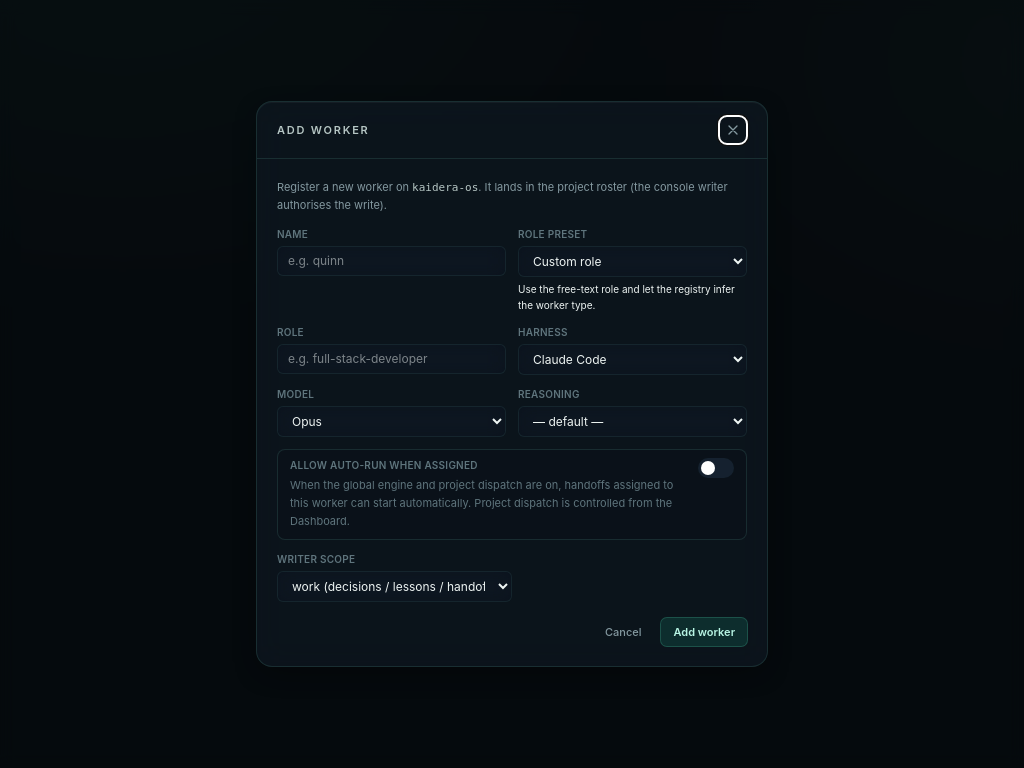
it: AddAgentModal › surfaces a friendly degraded-write error (caller not a registered writer)
This screenshot has width=1024, height=768.
In the field labelled "Name": (392,261) [277, 246, 506, 276], type "q"
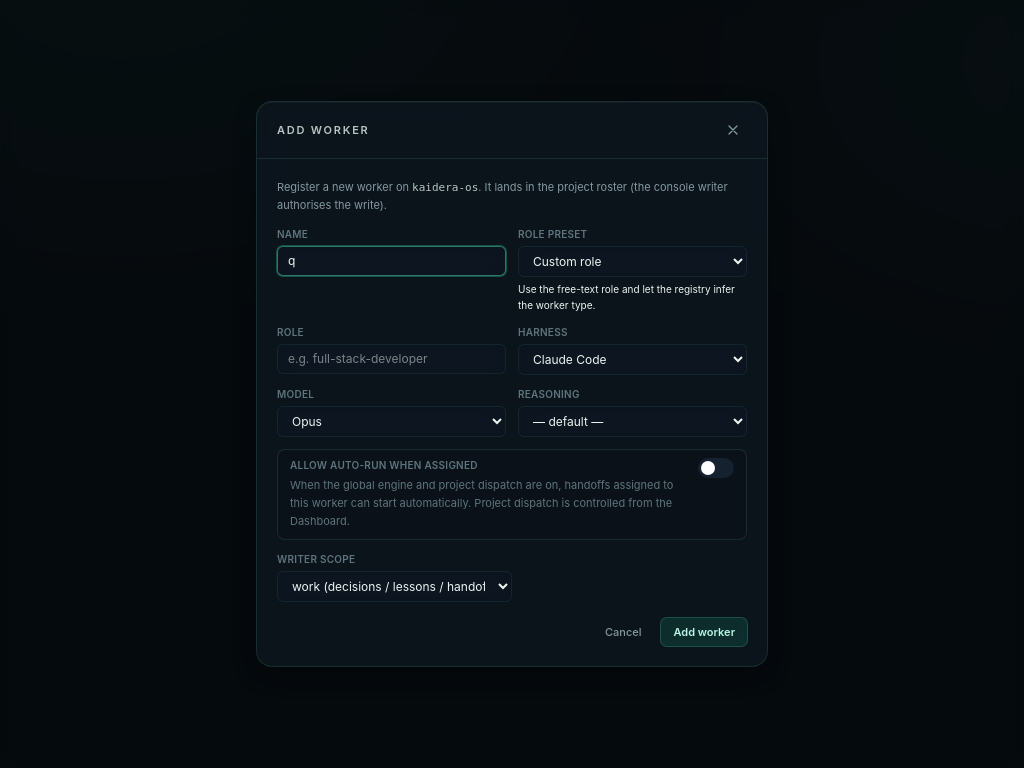
In the field labelled "Role": (392,359) [277, 344, 506, 374], type "qa"
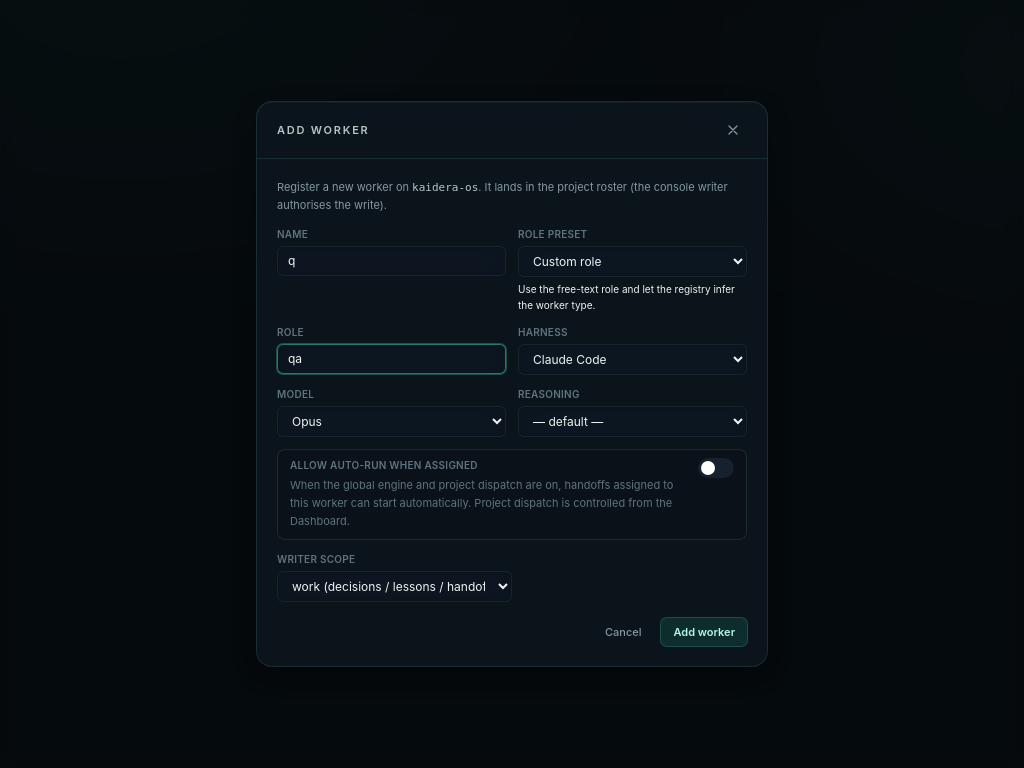
Click the button "Add worker": (704,632) [662, 618, 747, 646]
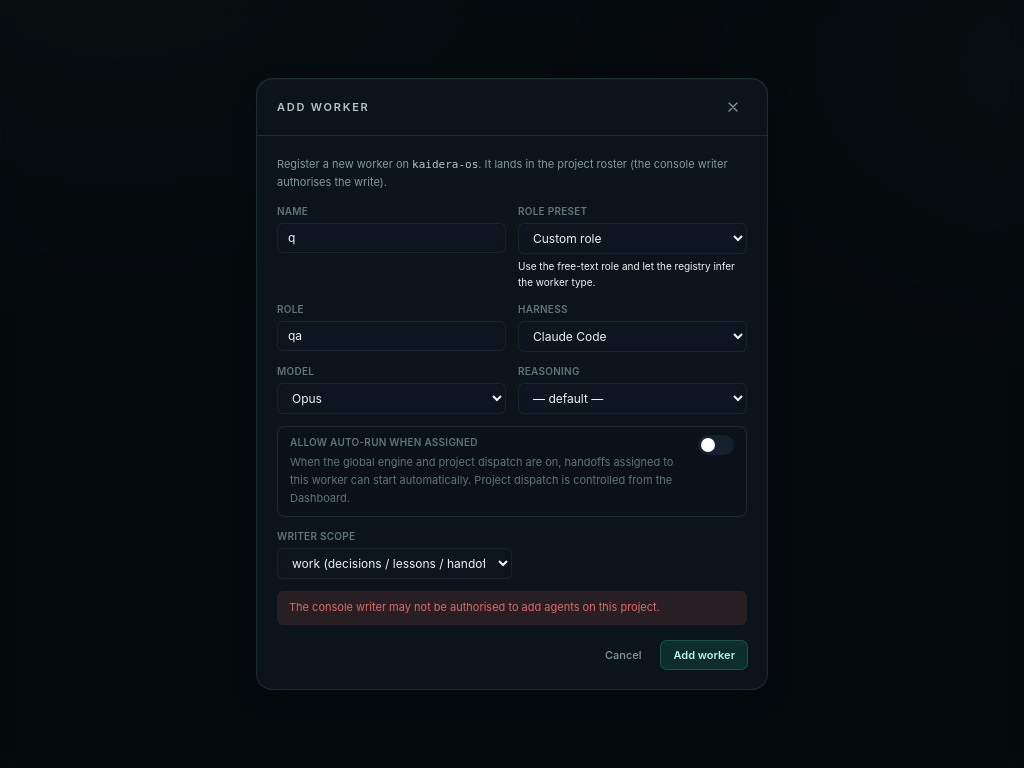
Expected: the text "The console writer may not be authorised to add agents on this project." is shown, [277, 591, 747, 625]
